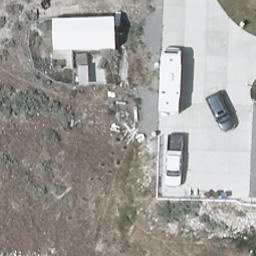camping car: (158, 48, 184, 114)
car: (204, 93, 236, 131)
pickup: (159, 133, 185, 187)
